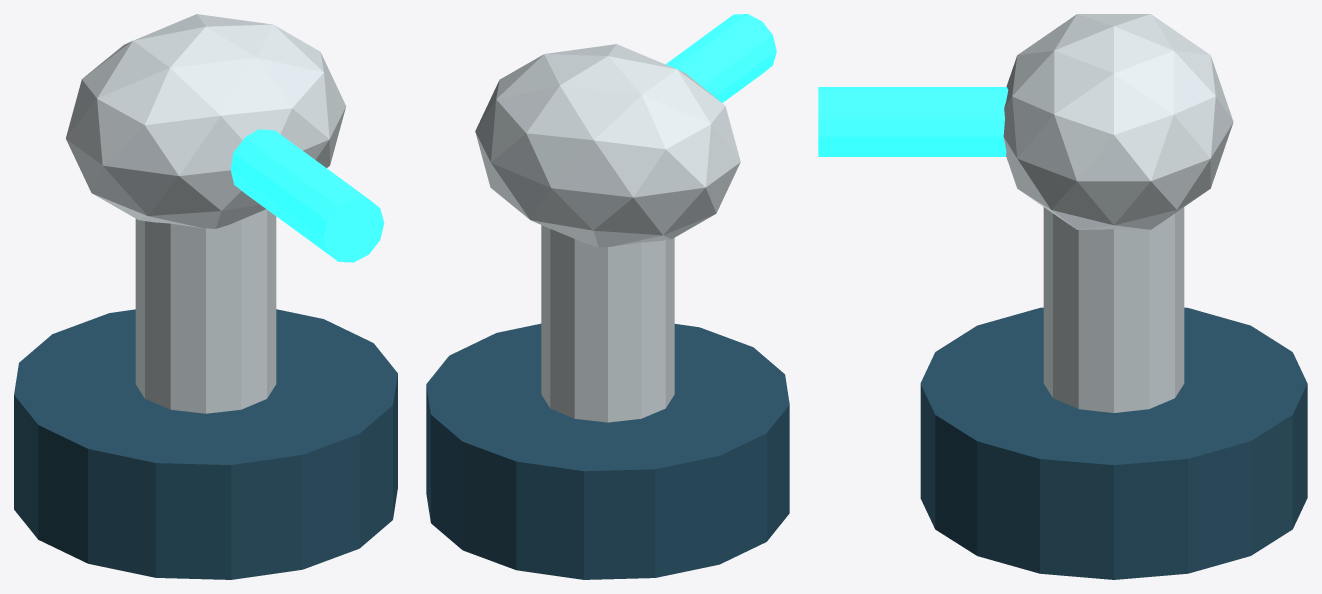
The model's file is turret.glb.
3 views of the same model, side by side, from view 1: azimuth 30°, elevation 25°; view 2: azimuth 150°, elevation 25°; view 3: azimuth 270°, elevation 25° (orthographic). The views are drawn at different scales.
Visible parts, largest first — view 1: Base.001, Head.004, Column, PulseBarrel; view 2: Base.001, Head.004, Column, PulseBarrel; view 3: Base.001, Head.004, Column, PulseBarrel.
Part boxes in pixels (<box>): Base.001: <box>14,309,397,579</box>; Head.004: <box>66,14,346,228</box>; Column: <box>135,209,276,413</box>; PulseBarrel: <box>230,129,384,262</box>; Base.001: <box>426,323,789,579</box>; Head.004: <box>475,44,740,247</box>; Column: <box>541,225,674,422</box>; PulseBarrel: <box>665,14,776,102</box>; Base.001: <box>920,307,1307,579</box>; Head.004: <box>1003,14,1233,229</box>; Column: <box>1043,207,1184,412</box>; PulseBarrel: <box>818,87,1008,156</box>.
Bounding box in the file's own units: 1.1 × 1.48 × 1.39.
